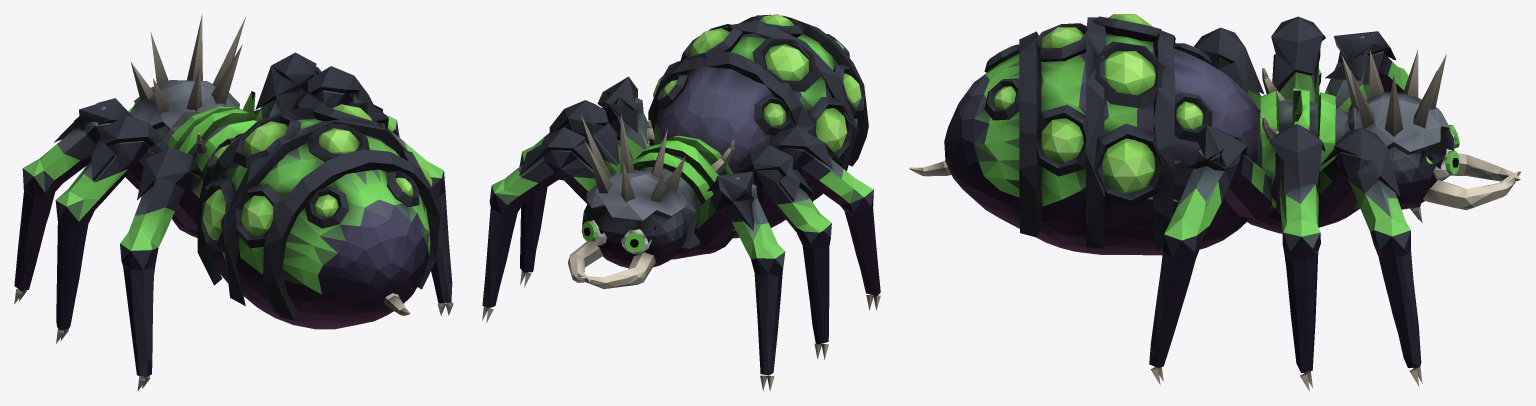
File: Queen.fbx
3 views of the same model, side by side, from view 1: azimuth 30°, elevation 25°; view 2: azimuth 150°, elevation 25°; view 3: azimuth 270°, elevation 25° (orthographic). The views are drawn at different scales.
Parts seen in each view (by area): view 1: Abdomen, Leg_5, Leg_3, Leg_1, Head, Eggs_Glow, Torso, Leg_6, Leg_2, Leg_4; view 2: Abdomen, Head, Leg_1, Leg_2, Leg_3, Leg_5, Torso, Eggs_Glow, Leg_4, Leg_6, Eyes_Glow; view 3: Abdomen, Head, Leg_6, Leg_2, Leg_4, Eggs_Glow, Torso, Leg_1, Leg_3, Leg_5.
Boxes of the visible parts, left/top/right/bottom form: Abdomen: left=197, top=105, right=440, bottom=329; Leg_5: left=120, top=147, right=204, bottom=391; Leg_3: left=55, top=115, right=176, bottom=343; Leg_1: left=14, top=98, right=139, bottom=303; Head: left=130, top=14, right=245, bottom=137; Eggs_Glow: left=202, top=104, right=432, bottom=240; Torso: left=163, top=91, right=263, bottom=237; Leg_6: left=350, top=101, right=453, bottom=315; Leg_2: left=255, top=52, right=321, bottom=118; Leg_4: left=292, top=66, right=399, bottom=137; Abdomen: left=648, top=14, right=868, bottom=238; Head: left=568, top=114, right=687, bottom=289; Leg_1: left=694, top=171, right=785, bottom=391; Leg_2: left=482, top=127, right=613, bottom=323; Leg_3: left=729, top=145, right=831, bottom=359; Leg_5: left=761, top=126, right=880, bottom=310; Torso: left=632, top=120, right=736, bottom=259; Eggs_Glow: left=653, top=14, right=861, bottom=152; Leg_4: left=519, top=100, right=634, bottom=287; Leg_6: left=597, top=76, right=647, bottom=159; Eyes_Glow: left=581, top=208, right=644, bottom=252; Abdomen: left=909, top=16, right=1258, bottom=255; Head: left=1341, top=50, right=1520, bottom=210; Leg_6: left=1149, top=125, right=1275, bottom=384; Leg_2: left=1318, top=128, right=1422, bottom=386; Leg_4: left=1269, top=124, right=1325, bottom=391; Eggs_Glow: left=993, top=14, right=1203, bottom=193; Torso: left=1247, top=68, right=1360, bottom=233; Leg_1: left=1325, top=31, right=1422, bottom=223; Leg_3: left=1271, top=16, right=1325, bottom=103; Leg_5: left=1194, top=27, right=1264, bottom=109.
Bounding box in the file's own units: 11.14 × 8.05 × 16.21.
